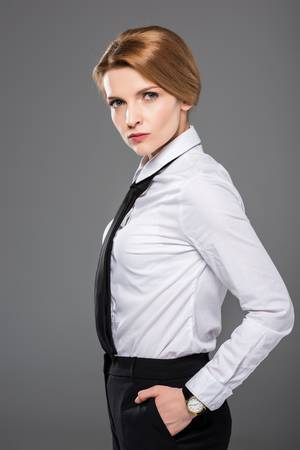F_shirt: (92, 131, 295, 415)
